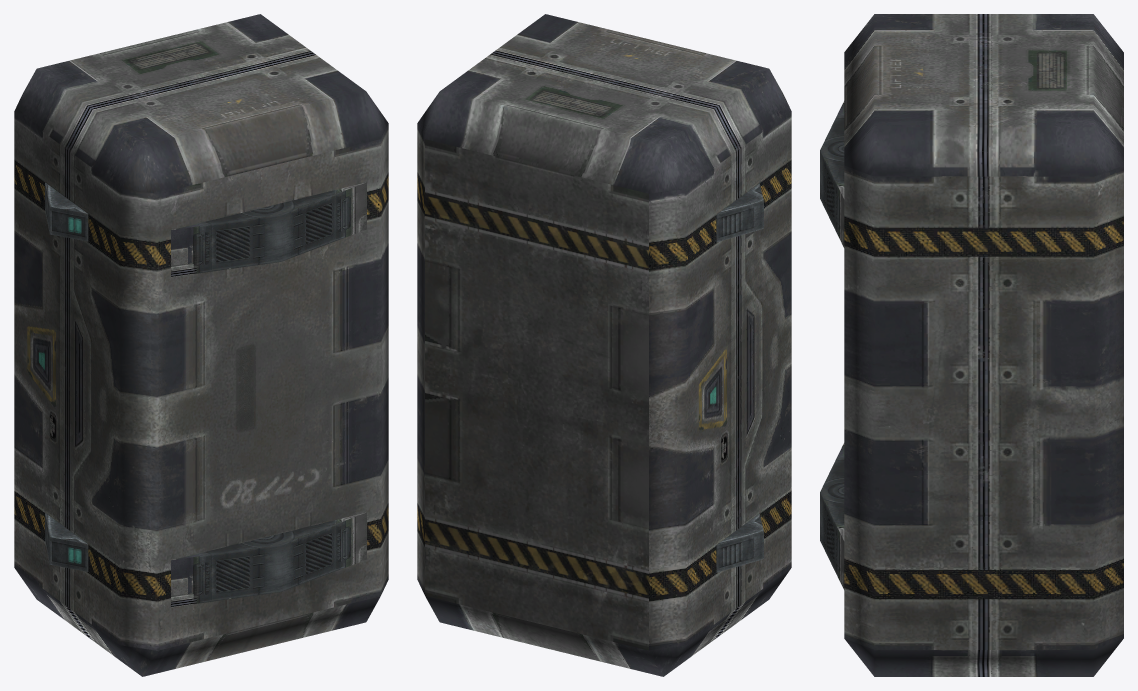
The model's file is t6_wpn_supply_drop_hq_LOD2.obj.
3 views of the same model, side by side, from view 1: azimuth 30°, elevation 25°; view 2: azimuth 150°, elevation 25°; view 3: azimuth 270°, elevation 25° (orthographic). The views are drawn at different scales.
Parts seen in each view (by area): view 1: mtl_t6_wpn_supply_drop_hq; view 2: mtl_t6_wpn_supply_drop_hq; view 3: mtl_t6_wpn_supply_drop_hq.
Part boxes in pixels (x1,y1,x2,y2): mtl_t6_wpn_supply_drop_hq: (14, 14, 388, 676); mtl_t6_wpn_supply_drop_hq: (417, 14, 791, 676); mtl_t6_wpn_supply_drop_hq: (820, 14, 1123, 676).
Size of the model in its own units: 103 by 181 by 90.68.
